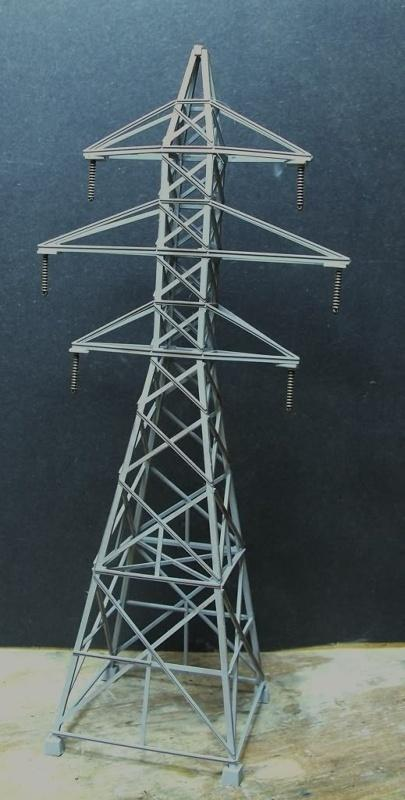power_tower: (24, 39, 354, 777)
